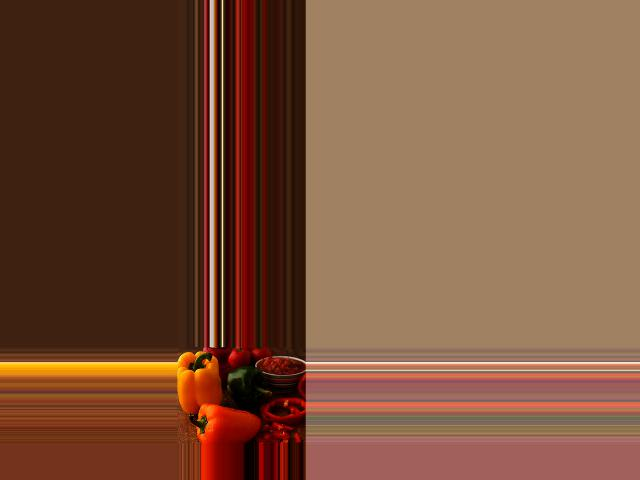bell_pepper: (177, 352, 223, 402)
